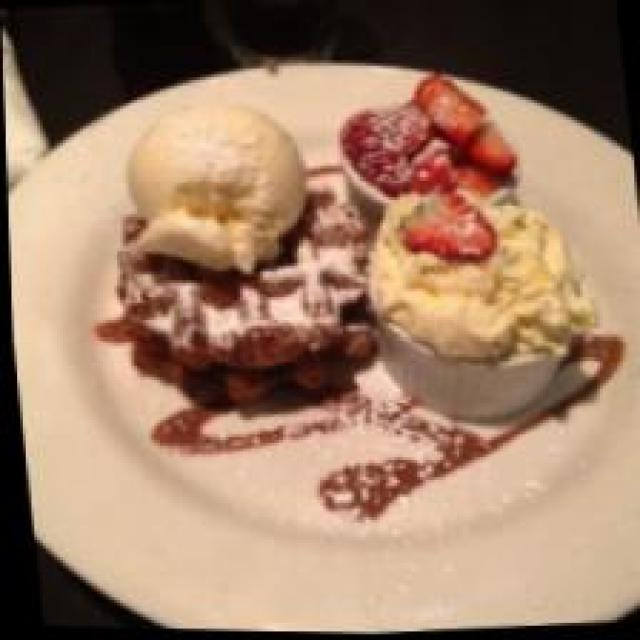Waffles: (95, 177, 378, 426)
